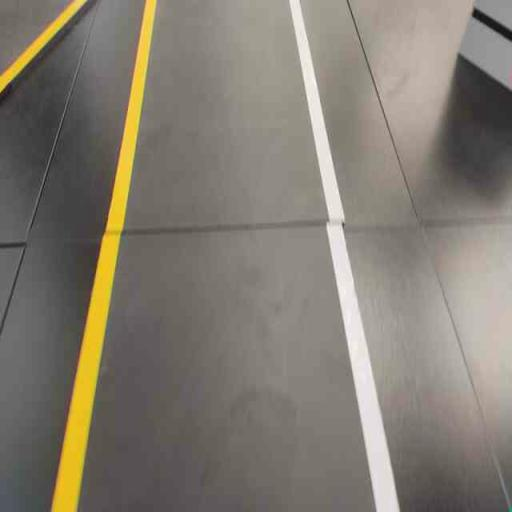straight: (49, 108, 405, 499)
